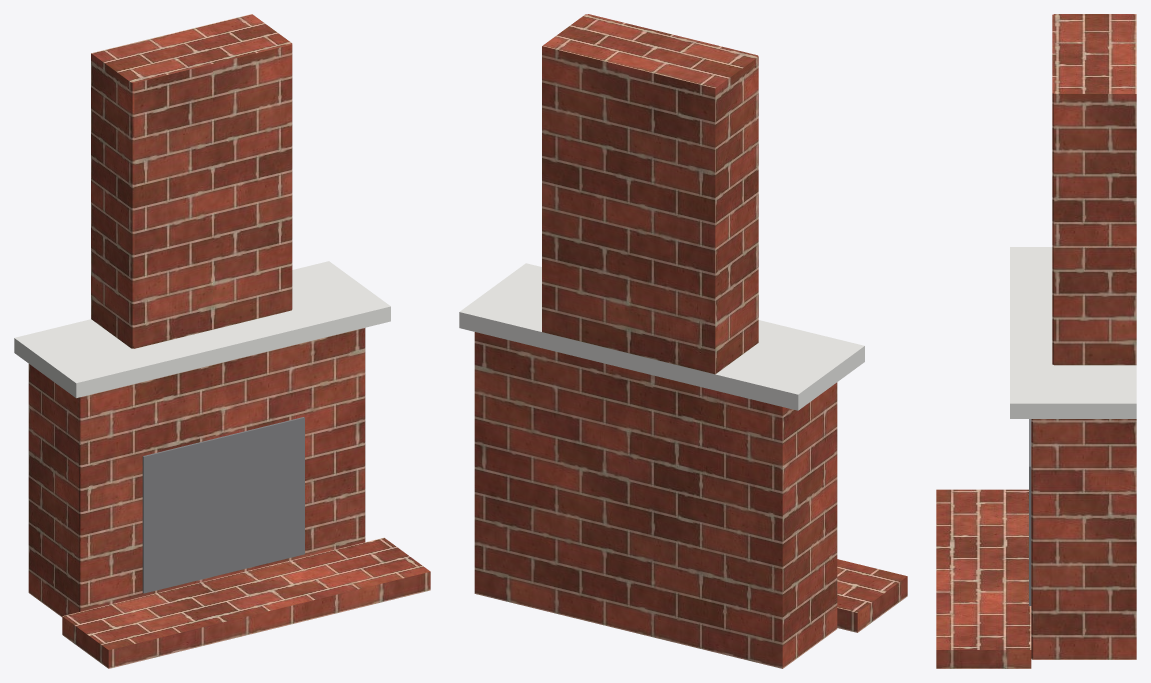
File: fireplace.glb
3 views of the same model, side by side, from view 1: azimuth 30°, elevation 25°; view 2: azimuth 150°, elevation 25°; view 3: azimuth 270°, elevation 25° (orthographic). The views are drawn at different scales.
Visible parts, largest first — view 1: fireplace_brick, fireplace_dark, fireplace_trim; view 2: fireplace_brick, fireplace_trim; view 3: fireplace_brick, fireplace_trim, fireplace_dark.
Boxes of the visible parts, x1,y1,x2,y2 form: fireplace_brick: (28,14,430,668); fireplace_dark: (142,417,304,593); fireplace_trim: (14,261,390,398); fireplace_brick: (474,14,907,668); fireplace_trim: (459,263,864,410); fireplace_brick: (936,14,1136,668); fireplace_trim: (1010,247,1136,418); fireplace_dark: (1029,419,1031,605).
Bounding box in the file's own units: 1.8 × 2.8 × 0.95.
3 materials, 1 textured.
